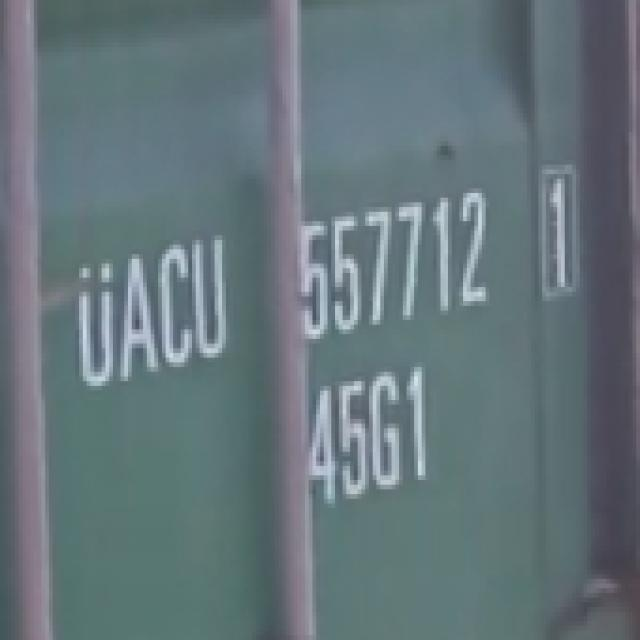dv: (520, 143, 598, 317)
owner: (59, 213, 240, 403)
serial: (289, 173, 501, 345)
size: (284, 350, 443, 514)
